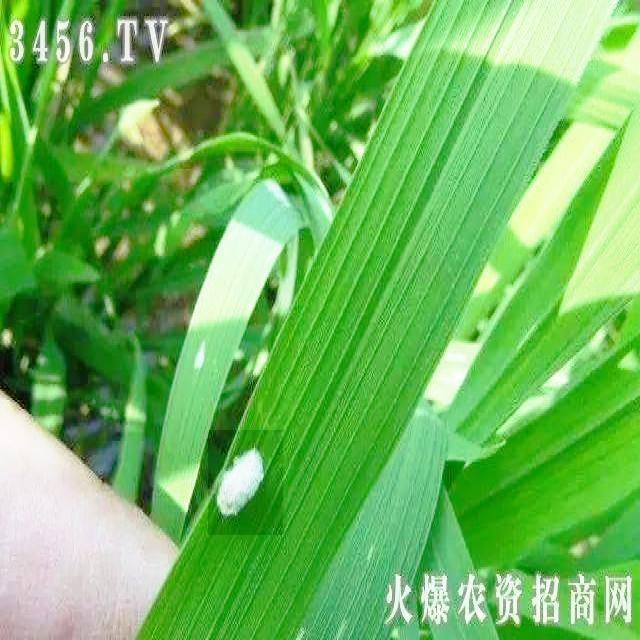whorl-maggot: (208, 430, 283, 535)
